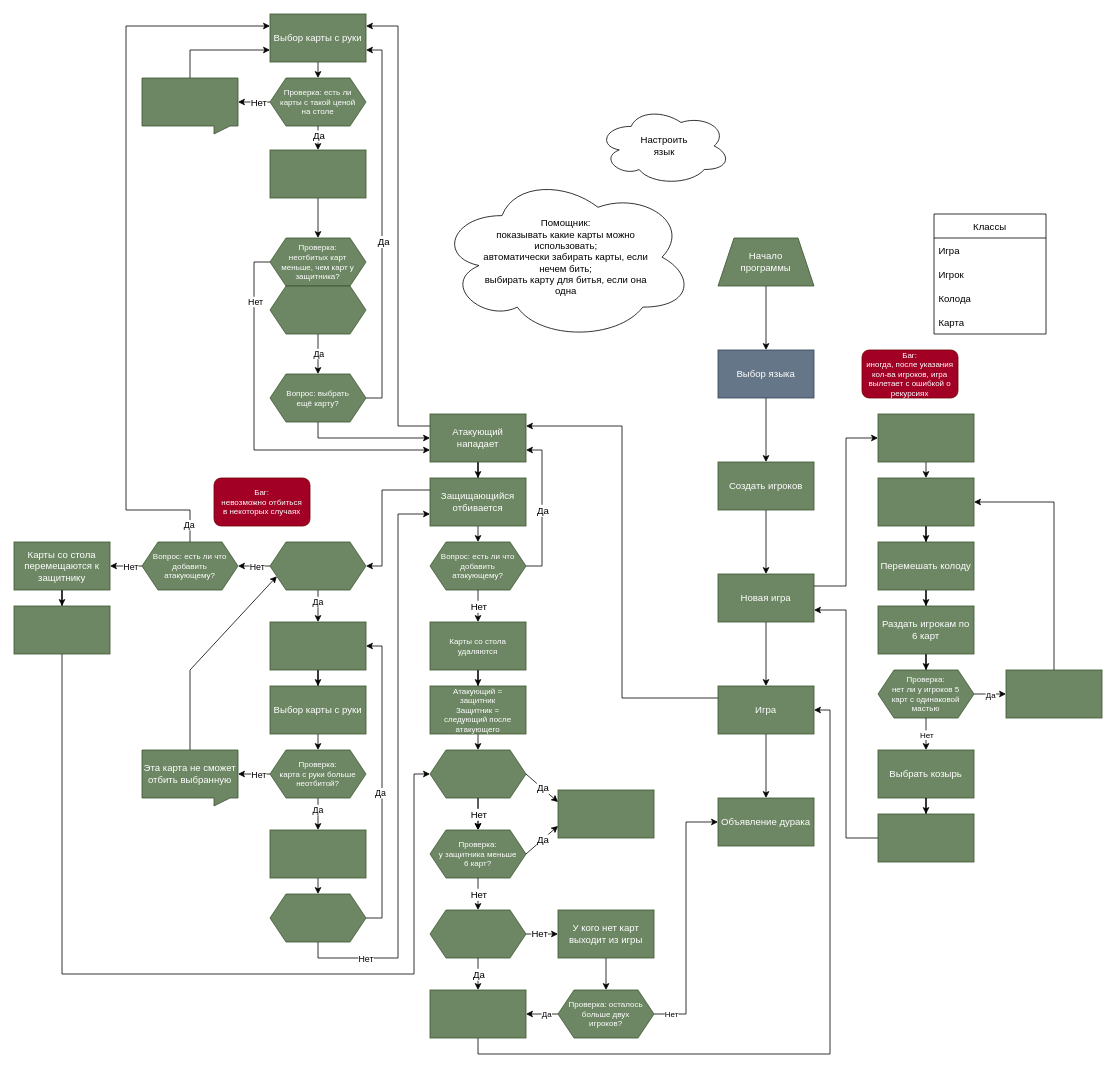
Image size: 1116x1074. Some labels were removed from this diagram. The shapes that lost their labels are listed below. From the top down, each one's centre as x and y in pixels, then its label:
the point at 189,105: В данный момент эту карту нельзя использовать
the point at 317,173: Карта добавляется на стол
the point at 317,309: Проверка: есть ли карты, которые можно подкинуть?
the point at 925,437: Подготовить стол
the point at 925,501: Новая колода
the point at 317,565: Вопрос: будет ли игрок отбиваться?
the point at 61,629: Атакующий = следующий после защитника Защитник = следующий после атакующего
the point at 317,645: Выбор неотбитой карты
the point at 1053,693: Удалить карты у игроков
the point at 477,773: Проверка: у всех игроков, кроме защитника, меньше 6 карт?
the point at 605,813: Игрок добирает карты из колоды
the point at 317,853: Карта с руки ложится на стол к неотбитой карте
the point at 925,837: Выбрать игрока для первого хода
the point at 317,917: Проверка:есть ли ещё неотбитые карты?
the point at 477,933: Проверка: у всех игроков есть карты?
the point at 477,1013: Конец раунда
